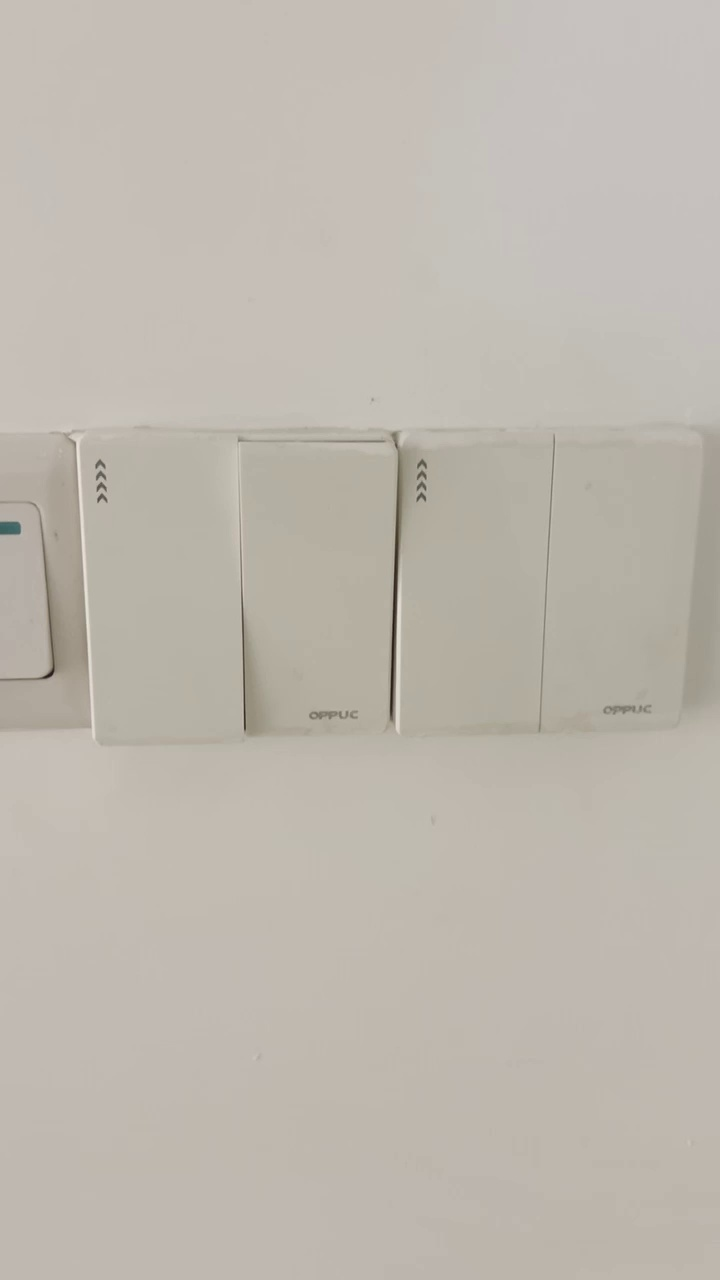button1: (82, 435, 241, 743), (400, 439, 548, 729), (548, 437, 695, 721), (247, 449, 392, 732)
